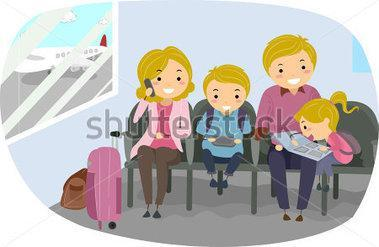aeroplane: (14, 41, 110, 81)
person: (254, 32, 324, 223), (125, 45, 192, 223), (195, 60, 250, 193), (294, 91, 358, 194)
